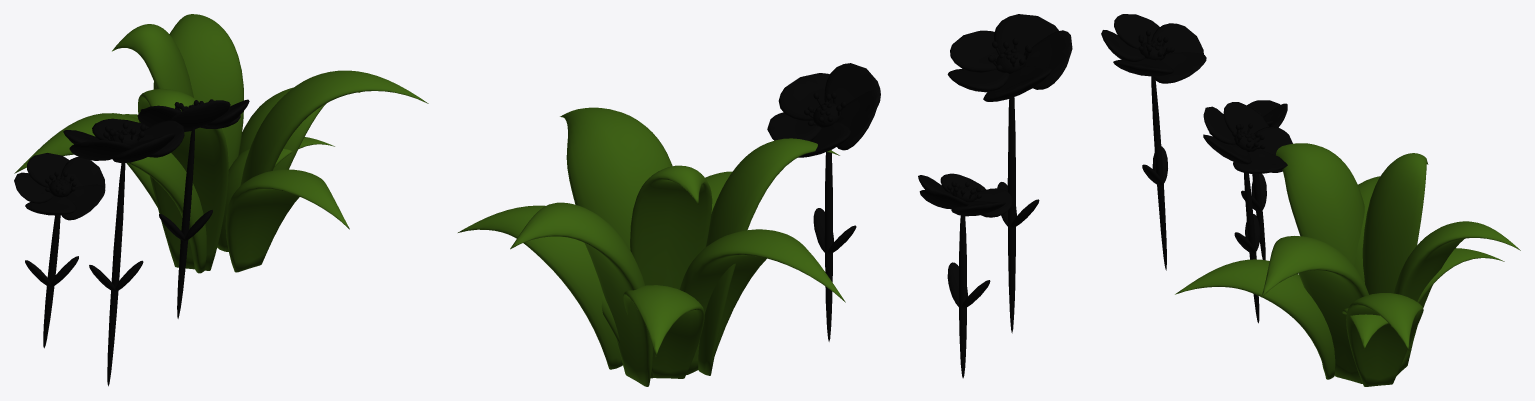
Rendered from painted_violets.glb.
The picture shows the model from 3 angles, left to right: view 1: azimuth 30°, elevation 25°; view 2: azimuth 150°, elevation 25°; view 3: azimuth 270°, elevation 25°; orthographic projection. The views are drawn at different scales.
Visible parts, largest first — view 1: SM_Painted_Violets; view 2: SM_Painted_Violets; view 3: SM_Painted_Violets.
Boxes of the visible parts, x1,y1,x2,y2 form: SM_Painted_Violets: (14,14,428,386); SM_Painted_Violets: (458,14,1072,386); SM_Painted_Violets: (1101,14,1520,386).
Size of the model in its own units: 0.4912 by 0.2984 by 0.462.
